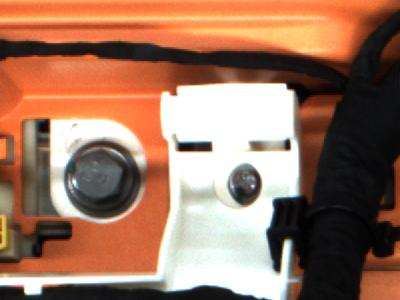nut_b: (56, 129, 157, 224)
